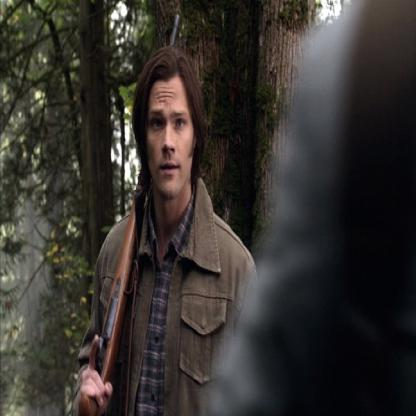Gun: (75, 10, 181, 415)
